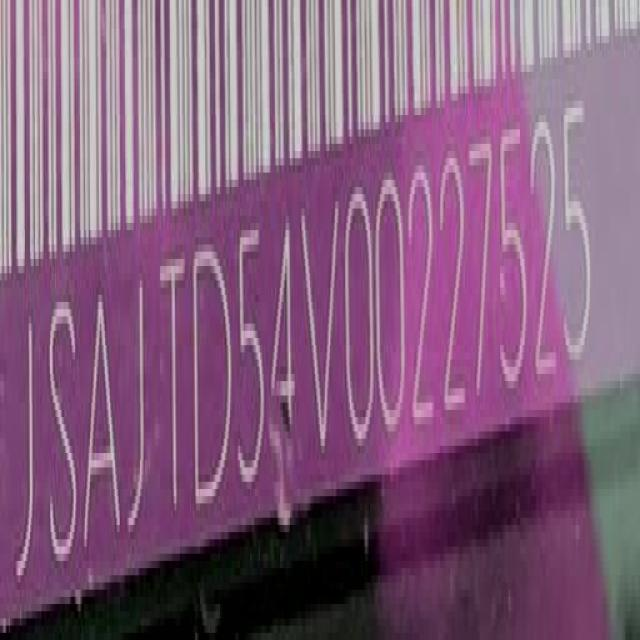0: (345, 190, 374, 466), (376, 165, 404, 440)
2: (438, 147, 466, 425), (407, 157, 435, 433), (531, 112, 559, 387)
4: (270, 220, 298, 483)
5: (562, 94, 591, 375), (235, 218, 264, 493), (499, 120, 527, 398)
7: (467, 131, 492, 410)
A: (85, 289, 119, 552)
D: (196, 242, 232, 510)
J: (126, 272, 148, 535), (16, 296, 34, 588)
S: (48, 291, 78, 568)
T: (156, 245, 190, 525)
V: (301, 200, 342, 471)
